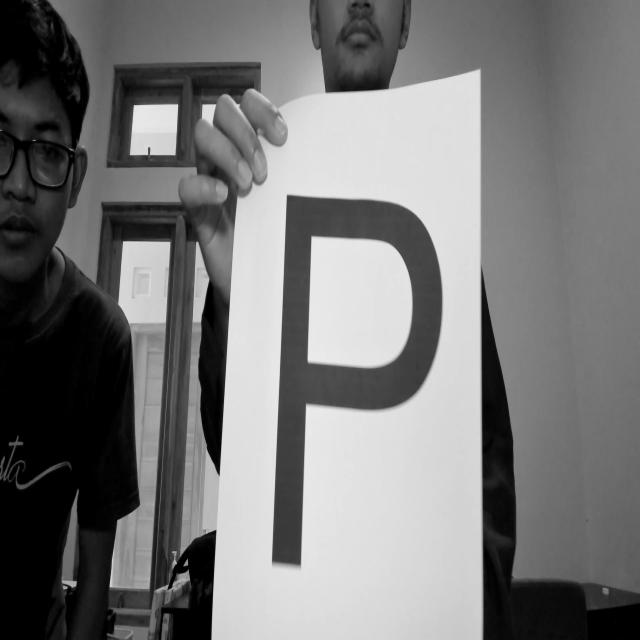p: (264, 176, 446, 576)
